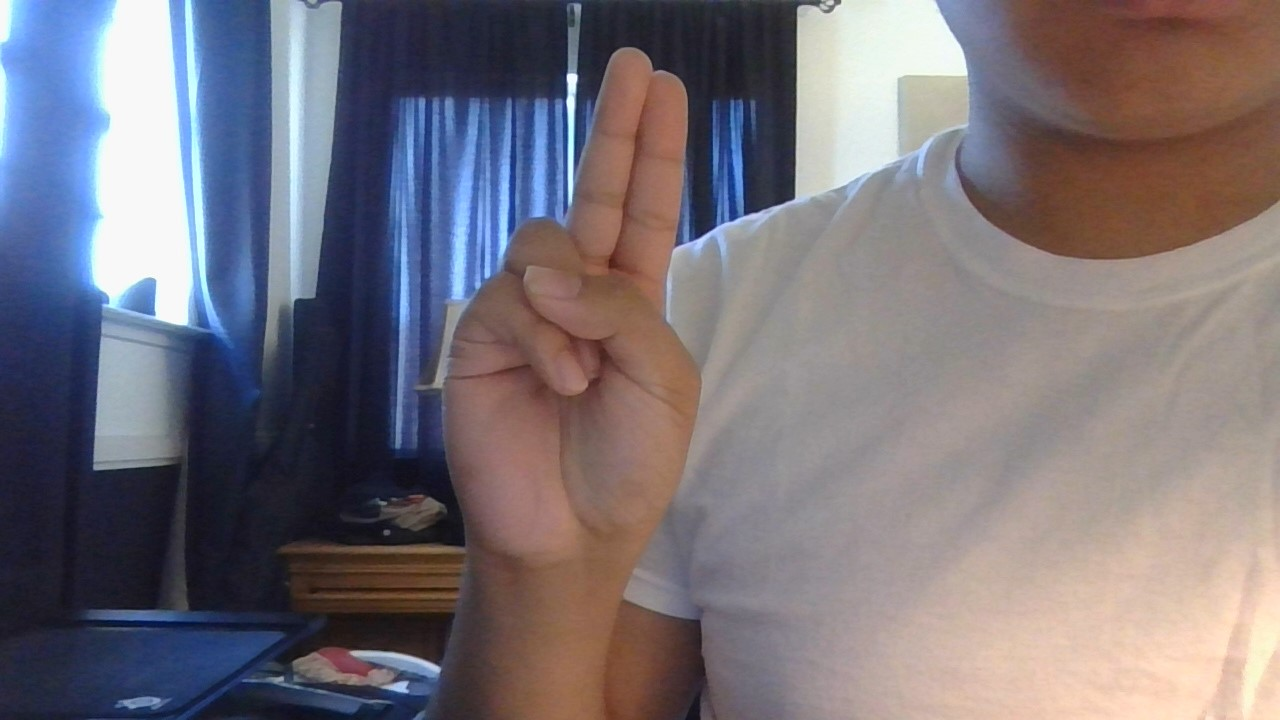u: (443, 36, 755, 581)
